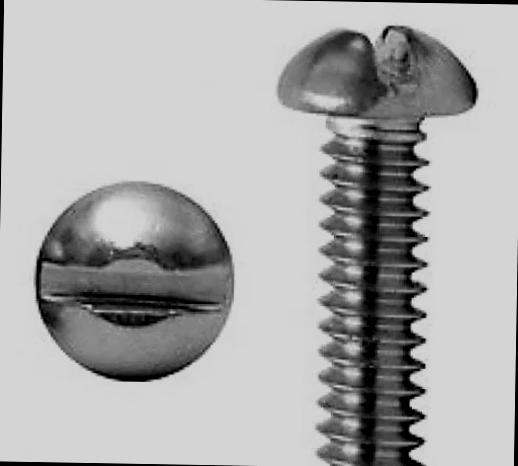slotted: (32, 179, 238, 387)
